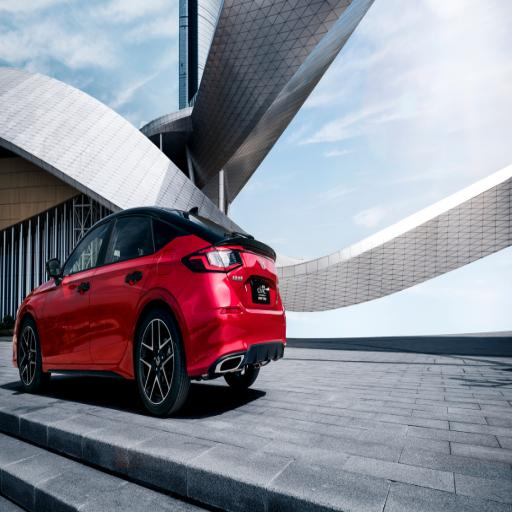Sedan-sDLz: (13, 203, 285, 415)
